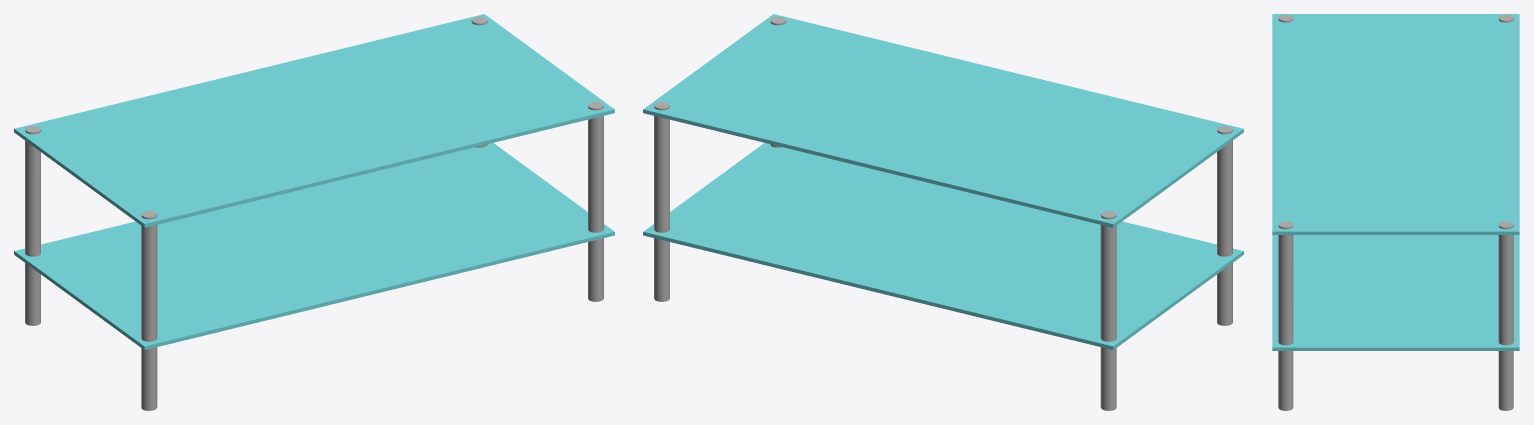
The model's file is Table_0.fbx.
The picture shows the model from 3 angles, left to right: view 1: azimuth 30°, elevation 25°; view 2: azimuth 150°, elevation 25°; view 3: azimuth 270°, elevation 25°; orthographic projection. The views are drawn at different scales.
Parts seen in each view (by area): view 1: Table; view 2: Table; view 3: Table.
Boxes of the visible parts, x1,y1,x2,y2 form: Table: (14, 14, 614, 410); Table: (643, 14, 1243, 410); Table: (1272, 14, 1519, 410).
Bounding box in the file's own units: 363 × 143 × 174.
